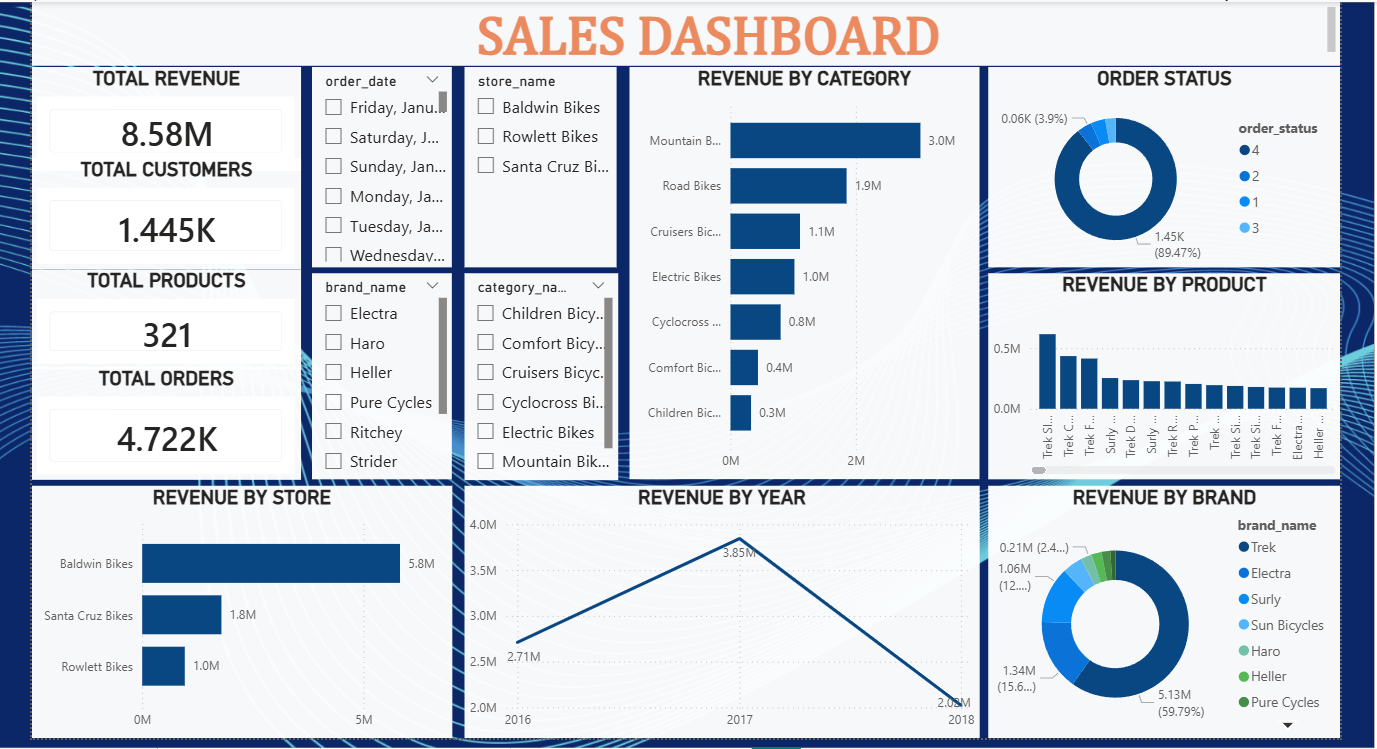

The page's visual inventory and layout, read from the dashboard file:
{"tool":"powerbi","page":{"name":"Sales Dashboard","canvas":[1280,720],"ordinal":0},"visuals":[{"type":"cardVisual","title":"TOTAL REVENUE","fields":{"Data":["Sum(vw_sales_summary.revenue)"]},"box":[0,63.6,262.9,101.5],"z":0},{"type":"cardVisual","title":"TOTAL ORDERS","fields":{"Data":["CountNonNull(vw_sales_summary.order_id)"]},"box":[0,357.1,262.9,110.1],"z":1000},{"type":"cardVisual","title":"TOTAL CUSTOMERS","fields":{"Data":["CountNonNull(vw_customer_summary.customer_id)"]},"box":[0,152.9,262.9,108.8],"z":2000},{"type":"cardVisual","title":"TOTAL PRODUCTS","fields":{"Data":["CountNonNull(products.product_id)"]},"box":[0,261.7,262.9,97.8],"z":3000},{"type":"clusteredBarChart","title":"REVENUE BY CATEGORY","fields":{"Category":["vw_sales_summary.category_name"],"Y":["Sum(vw_sales_summary.revenue)"]},"box":[584.5,63.6,342.4,403.5],"z":4000},{"type":"clusteredBarChart","title":"REVENUE BY STORE","fields":{"Category":["vw_sales_summary.store_name"],"Y":["Sum(vw_sales_summary.revenue)"]},"box":[0,473,410.9,247],"z":5000},{"type":"lineChart","title":"REVENUE BY YEAR","fields":{"Category":["vw_sales_summary.order_date.Variation.Date Hierarchy.Year","vw_sales_summary.order_date.Variation.Date Hierarchy.Month"],"Y":["Sum(vw_sales_summary.revenue)"]},"box":[423.1,473.2,503.8,247],"z":6000},{"type":"slicer","fields":{"Values":["vw_sales_summary.order_date"]},"box":[273.9,63.6,137,195.7],"z":7000},{"type":"donutChart","title":"REVENUE BY BRAND","fields":{"Category":["vw_sales_summary.brand_name"],"Y":["Sum(vw_sales_summary.revenue)"]},"box":[935.5,473.2,344.8,247],"z":8000},{"type":"columnChart","title":"REVENUE BY PRODUCT","fields":{"Category":["vw_sales_summary.product_name"],"Y":["Sum(vw_sales_summary.revenue)"]},"box":[935.5,265.4,344.8,201.8],"z":9000},{"type":"donutChart","title":"ORDER STATUS","fields":{"Y":["CountNonNull(orders.order_id)"],"Category":["orders.order_status"]},"box":[935.2,63.6,344.8,195.7],"z":10000},{"type":"textbox","box":[0,0,1280.3,62.4],"z":11000},{"type":"slicer","fields":{"Values":["vw_sales_summary.store_name"]},"box":[423.1,63.6,149.2,195.7],"z":12000},{"type":"slicer","fields":{"Values":["vw_sales_summary.brand_name"]},"box":[273.9,265.4,137,201.8],"z":12001},{"type":"slicer","fields":{"Values":["vw_sales_summary.category_name"]},"box":[423,265,150,202],"z":12002}]}

Visuals, with their boxes in screenshot pixels (x1, y1, x2, y2):
"TOTAL REVENUE" cardVisual: {"x1": 25, "y1": 62, "x2": 295, "y2": 166}
"TOTAL ORDERS" cardVisual: {"x1": 25, "y1": 363, "x2": 295, "y2": 476}
"TOTAL CUSTOMERS" cardVisual: {"x1": 25, "y1": 153, "x2": 295, "y2": 265}
"TOTAL PRODUCTS" cardVisual: {"x1": 25, "y1": 265, "x2": 295, "y2": 365}
"REVENUE BY CATEGORY" clusteredBarChart: {"x1": 625, "y1": 62, "x2": 977, "y2": 476}
"REVENUE BY STORE" clusteredBarChart: {"x1": 25, "y1": 482, "x2": 447, "y2": 736}
"REVENUE BY YEAR" lineChart: {"x1": 459, "y1": 482, "x2": 977, "y2": 736}
slicer - vw_sales_summary.order_date: {"x1": 306, "y1": 62, "x2": 447, "y2": 263}
"REVENUE BY BRAND" donutChart: {"x1": 985, "y1": 482, "x2": 1339, "y2": 736}
"REVENUE BY PRODUCT" columnChart: {"x1": 985, "y1": 269, "x2": 1339, "y2": 476}
"ORDER STATUS" donutChart: {"x1": 985, "y1": 62, "x2": 1339, "y2": 263}
textbox: {"x1": 25, "y1": 0, "x2": 1339, "y2": 60}
slicer - vw_sales_summary.store_name: {"x1": 459, "y1": 62, "x2": 613, "y2": 263}
slicer - vw_sales_summary.brand_name: {"x1": 306, "y1": 269, "x2": 447, "y2": 476}
slicer - vw_sales_summary.category_name: {"x1": 459, "y1": 268, "x2": 613, "y2": 476}
